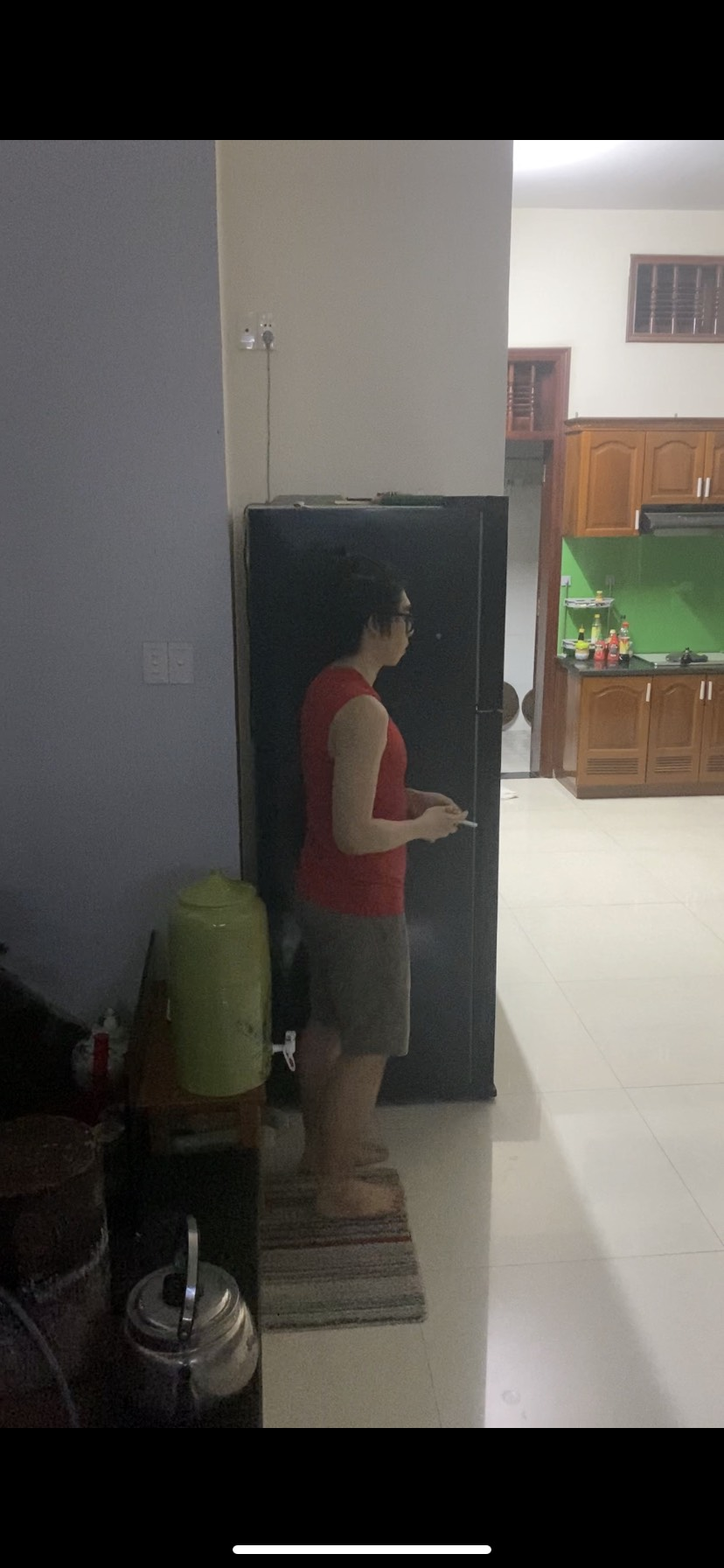cigarette: (458, 816, 481, 831)
person: (286, 554, 480, 1239)
